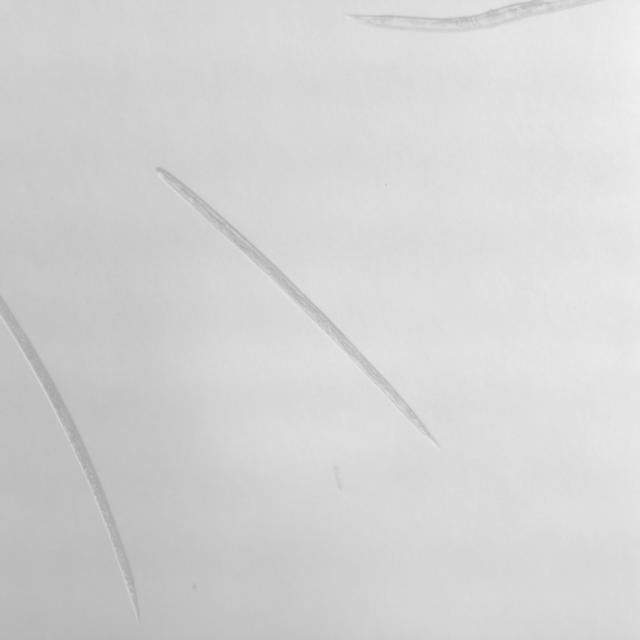Radopholus: (154, 158, 446, 451)
